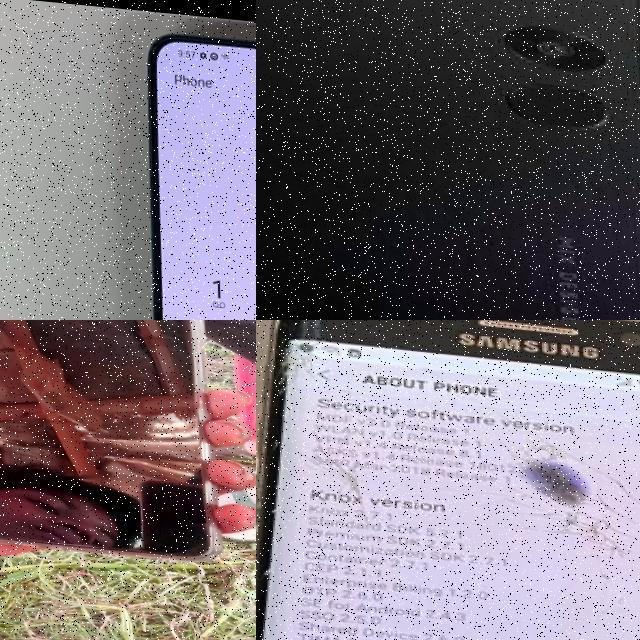screen crack: (258, 323, 393, 515), (505, 436, 640, 607)
